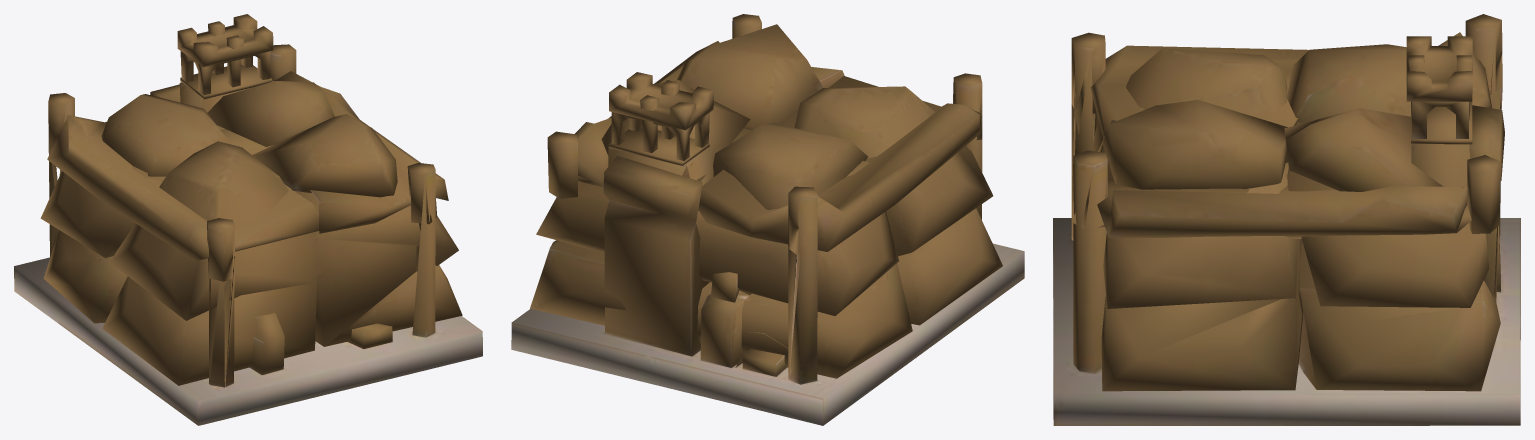
Rendered from arena-sandwall.glb.
3 views of the same model, side by side, from view 1: azimuth 30°, elevation 25°; view 2: azimuth 150°, elevation 25°; view 3: azimuth 270°, elevation 25° (orthographic). The views are drawn at different scales.
Bounding box in the file's own units: 0.8647 × 0.6899 × 0.9648.
Materials: 1 (1 with a texture image).
